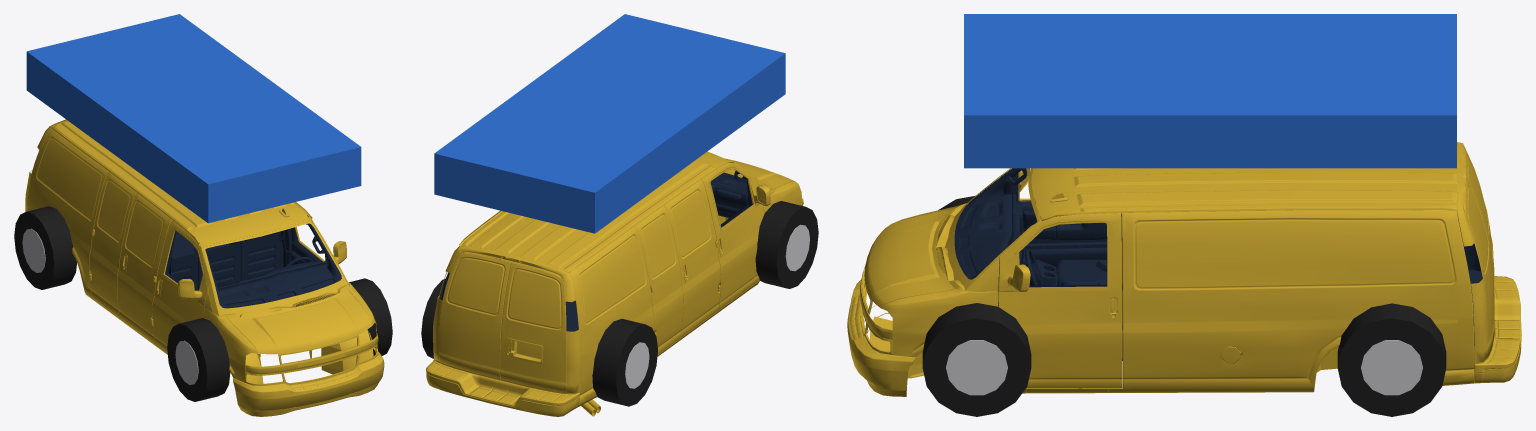
File: minibus207.glb
3 renders of one model, left to right at view 1: azimuth 30°, elevation 25°; view 2: azimuth 150°, elevation 25°; view 3: azimuth 270°, elevation 25°, orthographic. The views are drawn at different scales.
Visible parts, largest first — view 1: Base_07, object 3, Base_19, object 4, object 8, object 6, object 5, object 9; view 2: Base_07, object 3, object 8, object 4, Base_19, object 9, object 5, object 10; view 3: Base_07, object 3, Base_19, object 6, object 10, object 7, object 11.
Part boxes in pixels (x1,y1,x2,y2): Base_07: (25, 119, 384, 416); object 3: (26, 14, 361, 223); Base_19: (90, 215, 341, 308); object 4: (167, 318, 230, 401); object 8: (14, 206, 76, 289); object 6: (349, 278, 392, 356); object 5: (175, 340, 198, 384); object 9: (22, 228, 45, 272); Base_07: (426, 151, 803, 416); object 3: (434, 14, 785, 233); object 8: (592, 318, 657, 406); object 4: (755, 201, 818, 288); Base_19: (441, 171, 752, 331); object 9: (625, 342, 649, 388); object 5: (785, 224, 809, 271); object 10: (421, 278, 445, 358); Base_07: (847, 142, 1521, 396); object 3: (964, 14, 1456, 168); Base_19: (954, 168, 1482, 360); object 6: (922, 303, 1031, 416); object 10: (1337, 303, 1446, 416); object 7: (946, 340, 1007, 395); object 11: (1361, 340, 1422, 395).
Bounding box in the file's own units: 2.25 × 2.47 × 5.2.
